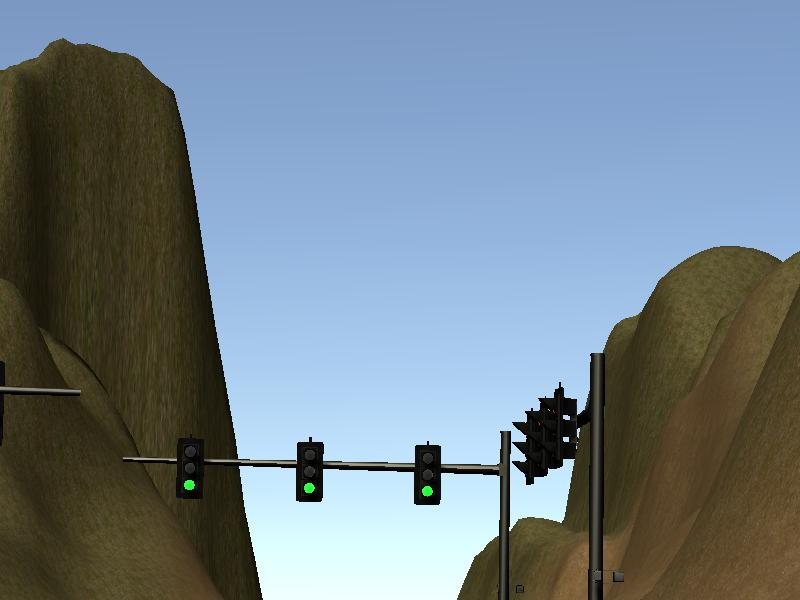Green: (176, 438, 203, 499), (298, 442, 324, 503), (415, 445, 440, 504)
